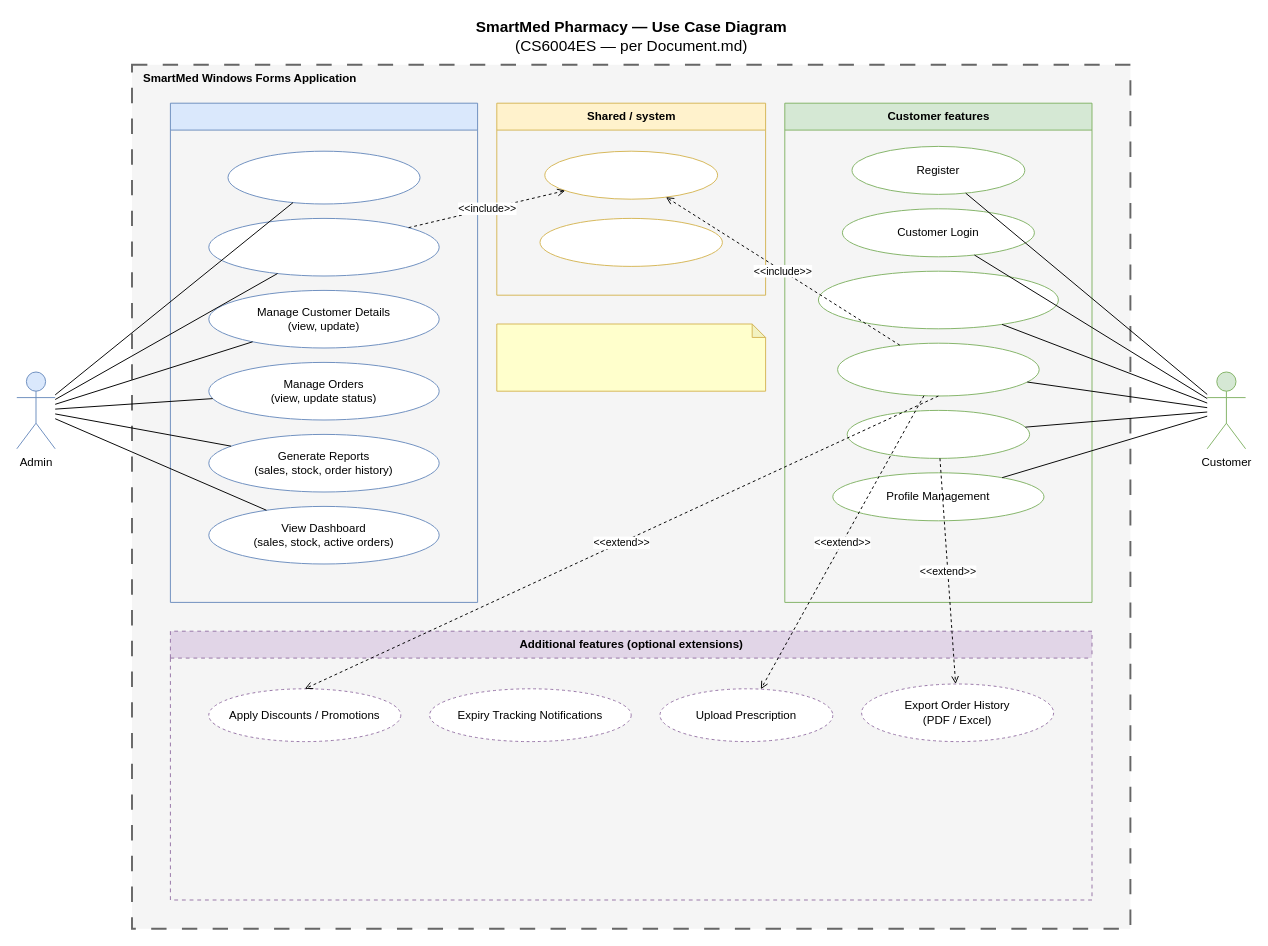
Some shapes in this 1268 by 946 pixel diagram are drawn without their labels. Each missing label, with the box of its shape:
Admin features: (169, 102, 478, 602)
Admin Login: (227, 150, 420, 204)
Handle Exceptions: (539, 217, 722, 266)
Manage Medicine Details (add, update, delete): (208, 217, 439, 276)
Order status values: Pending → Ready for Pickup → Delivered: (496, 323, 766, 391)
Place Orders (cart, checkout): (837, 342, 1039, 396)
Search Medicines (name, category, price range): (817, 270, 1058, 329)
Track Orders: (846, 409, 1030, 458)
Validate Input: (544, 150, 718, 199)
